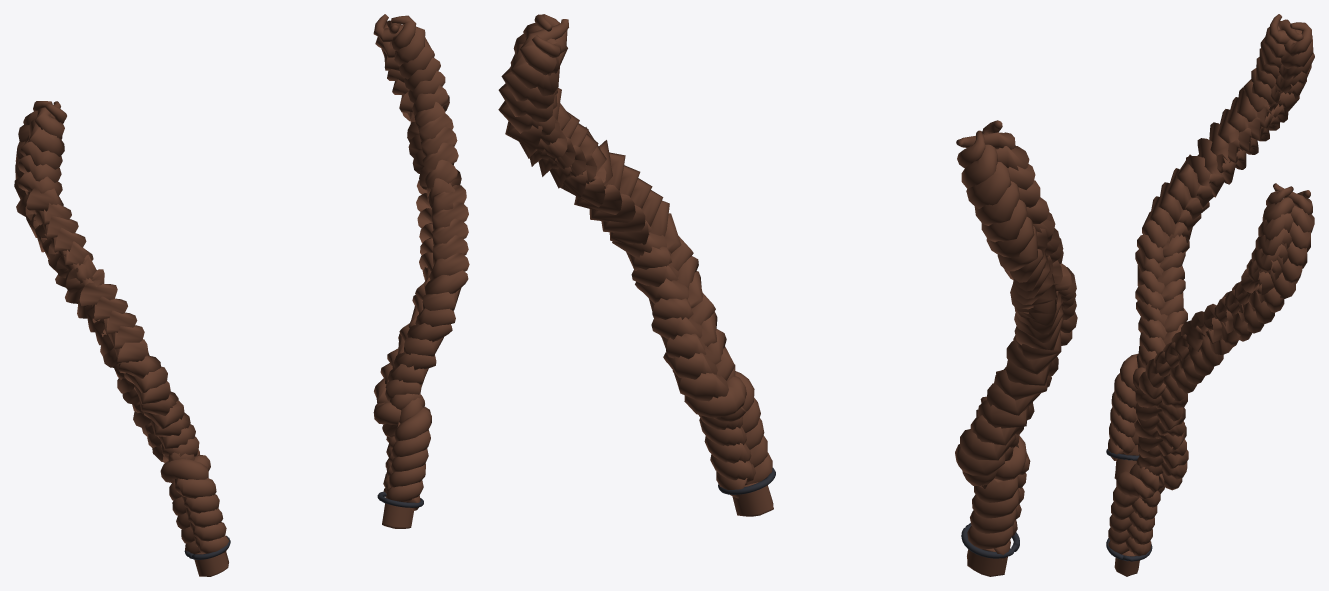
The model's file is Feminine-twin-braids-jersey-lengths251.glb.
3 renders of one model, left to right at view 1: azimuth 30°, elevation 25°; view 2: azimuth 150°, elevation 25°; view 3: azimuth 270°, elevation 25°, orthographic. The views are drawn at different scales.
Visible parts, largest first — view 1: 226 hairLengths / Hair / chestnut226, 226 hairLengths / Hair / ties226; view 2: 226 hairLengths / Hair / chestnut226, 226 hairLengths / Hair / ties226; view 3: 226 hairLengths / Hair / chestnut226, 226 hairLengths / Hair / ties226.
Part boxes in pixels (box(x1,y1,x2,y2)): 226 hairLengths / Hair / chestnut226: box(14, 14, 469, 576); 226 hairLengths / Hair / ties226: box(184, 491, 423, 559); 226 hairLengths / Hair / chestnut226: box(498, 14, 1077, 576); 226 hairLengths / Hair / ties226: box(718, 468, 1019, 558); 226 hairLengths / Hair / chestnut226: box(1108, 14, 1314, 576); 226 hairLengths / Hair / ties226: box(1106, 449, 1152, 561).
Bounding box in the file's own units: 1.09 × 1.06 × 0.4676.
